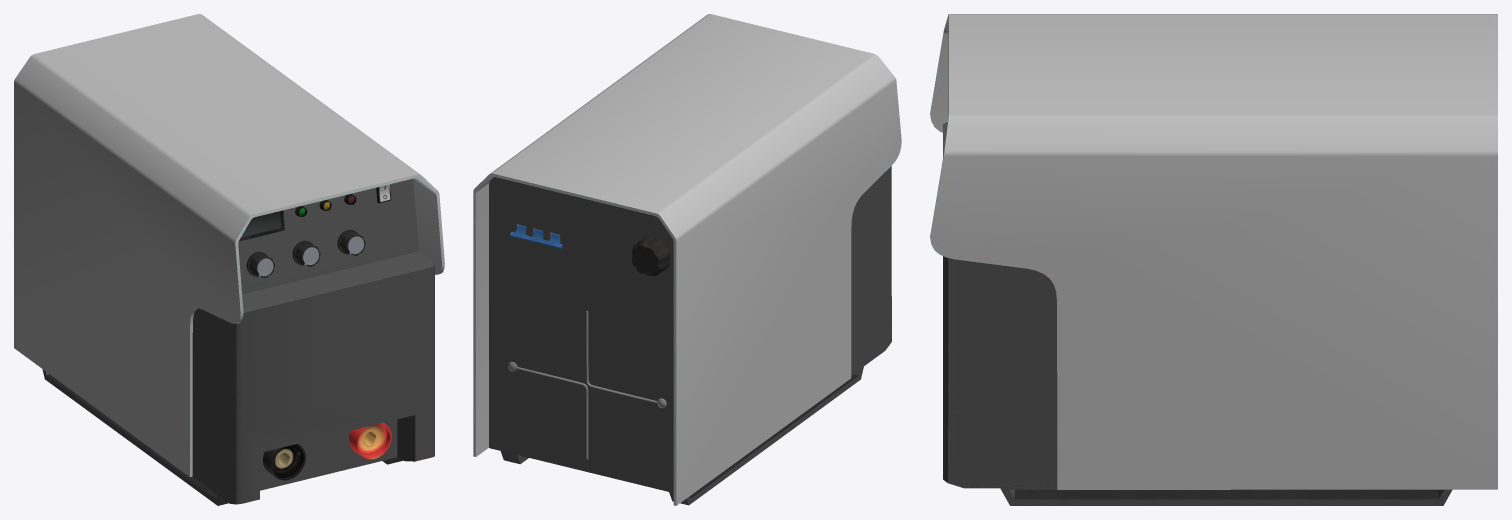
Rendered from welding_machine_gray.glb.
3 renders of one model, left to right at view 1: azimuth 30°, elevation 25°; view 2: azimuth 150°, elevation 25°; view 3: azimuth 270°, elevation 25°, orthographic. The views are drawn at different scales.
Visible parts, largest first — view 1: case_low, body_low, connectors_low, rack_low, tumblersfronf_low, caseonoff_low; view 2: case_low, body_low, rack_low, socket_low, fastening_low; view 3: case_low, body_low, rack_low.
Part boxes in pixels (x1=…): case_low: x1=14, y1=14, x2=444, y2=476; body_low: x1=192, y1=178, x2=434, y2=504; connectors_low: x1=263, y1=422, x2=391, y2=480; rack_low: x1=42, y1=369, x2=402, y2=505; tumblersfronf_low: x1=246, y1=229, x2=365, y2=277; caseonoff_low: x1=239, y1=186, x2=391, y2=241; case_low: x1=473, y1=14, x2=901, y2=505; body_low: x1=489, y1=166, x2=891, y2=492; rack_low: x1=500, y1=366, x2=863, y2=505; socket_low: x1=631, y1=236, x2=670, y2=276; fastening_low: x1=508, y1=311, x2=666, y2=459; case_low: x1=930, y1=14, x2=1497, y2=489; body_low: x1=943, y1=122, x2=1057, y2=488; rack_low: x1=1000, y1=488, x2=1452, y2=505.
Size of the model in its own units: 0.269 by 0.386 by 0.5169.
2 materials, 2 textured.
